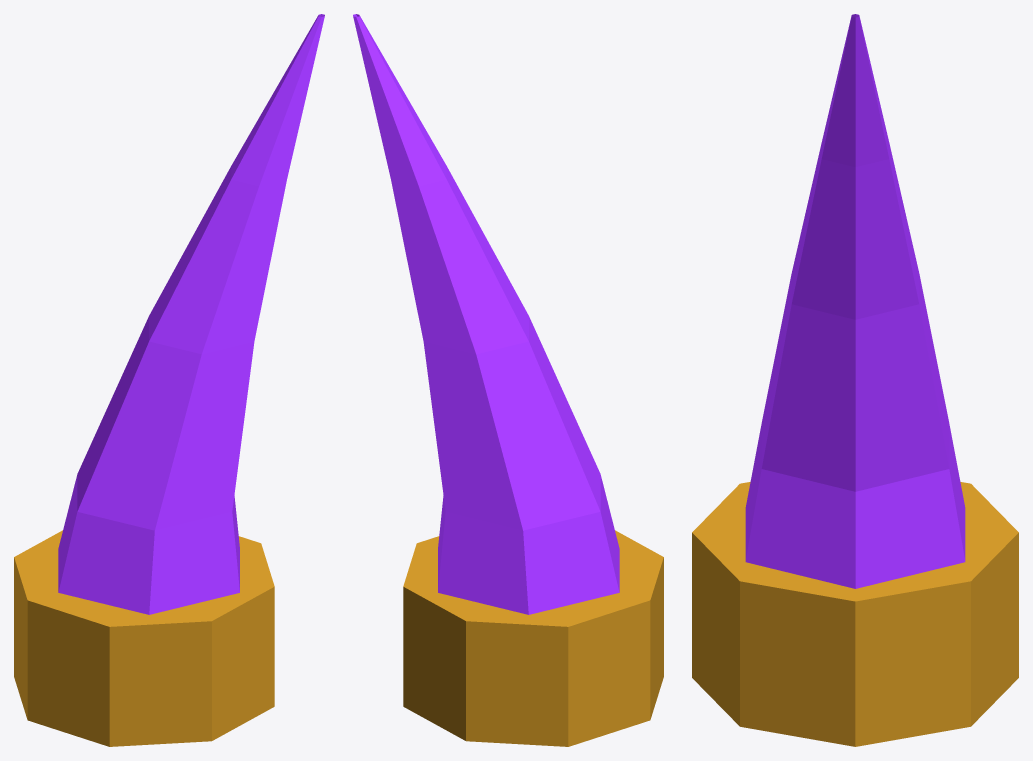
The model's file is crystal-horn.glb.
The picture shows the model from 3 angles, left to right: view 1: azimuth 30°, elevation 25°; view 2: azimuth 150°, elevation 25°; view 3: azimuth 270°, elevation 25°; orthographic projection. The views are drawn at different scales.
Parts seen in each view (by area): view 1: crystal-horn; view 2: crystal-horn; view 3: crystal-horn.
Part boxes in pixels (x1=…): crystal-horn: x1=14, y1=14, x2=324, y2=746; crystal-horn: x1=353, y1=14, x2=663, y2=746; crystal-horn: x1=692, y1=14, x2=1018, y2=746.
Size of the model in its own units: 0.285 by 0.58 by 0.224.
